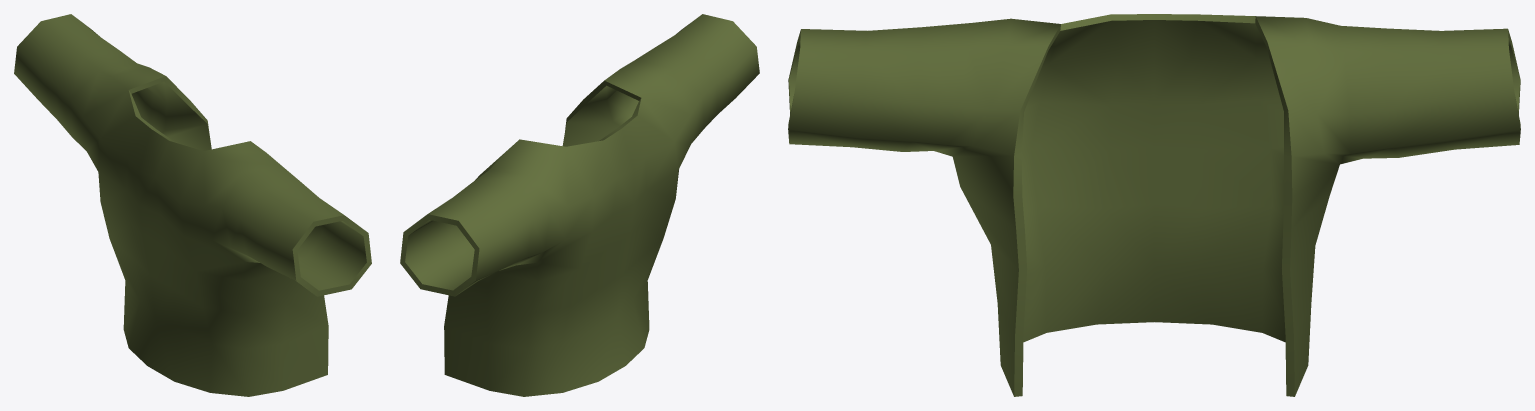
The model's file is kurtka-De4vB8ZT.glb.
3 renders of one model, left to right at view 1: azimuth 30°, elevation 25°; view 2: azimuth 150°, elevation 25°; view 3: azimuth 270°, elevation 25°, orthographic. The views are drawn at different scales.
Parts seen in each view (by area): view 1: mesh_char_115.009; view 2: mesh_char_115.009; view 3: mesh_char_115.009.
Part boxes in pixels (x1,y1,x2,y2): mesh_char_115.009: (14, 14, 371, 396); mesh_char_115.009: (400, 14, 759, 396); mesh_char_115.009: (788, 14, 1520, 396).
Size of the model in its own units: 0.5126 by 0.8793 by 1.85.
